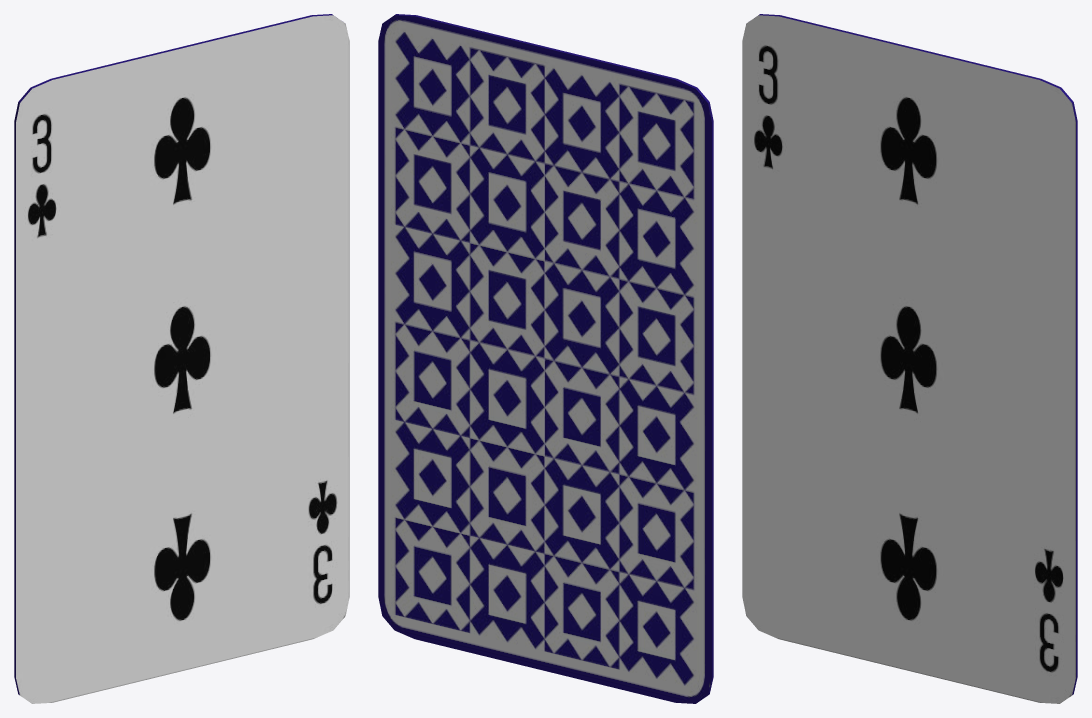
3 renders of one model, left to right at view 1: azimuth 30°, elevation 25°; view 2: azimuth 150°, elevation 25°; view 3: azimuth 330°, elevation 25°, orthographic.
Parts seen in each view (by area): view 1: Three of Clubs; view 2: Three of Clubs; view 3: Three of Clubs.
Part boxes in pixels (x1,y1,x2,y2): Three of Clubs: [14, 14, 349, 703]; Three of Clubs: [378, 14, 713, 703]; Three of Clubs: [742, 14, 1077, 703].
Size of the model in its own units: 1.43 by 2.54 by 0.0125.
Materials: 3 (3 with a texture image).
